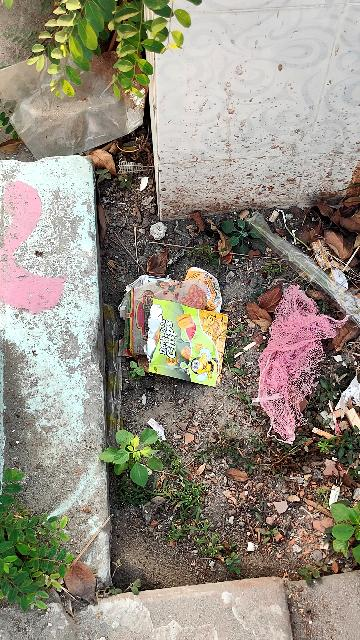packet: (133, 301, 241, 385)
